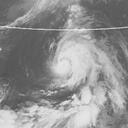cyclone: (47, 30, 110, 90)
